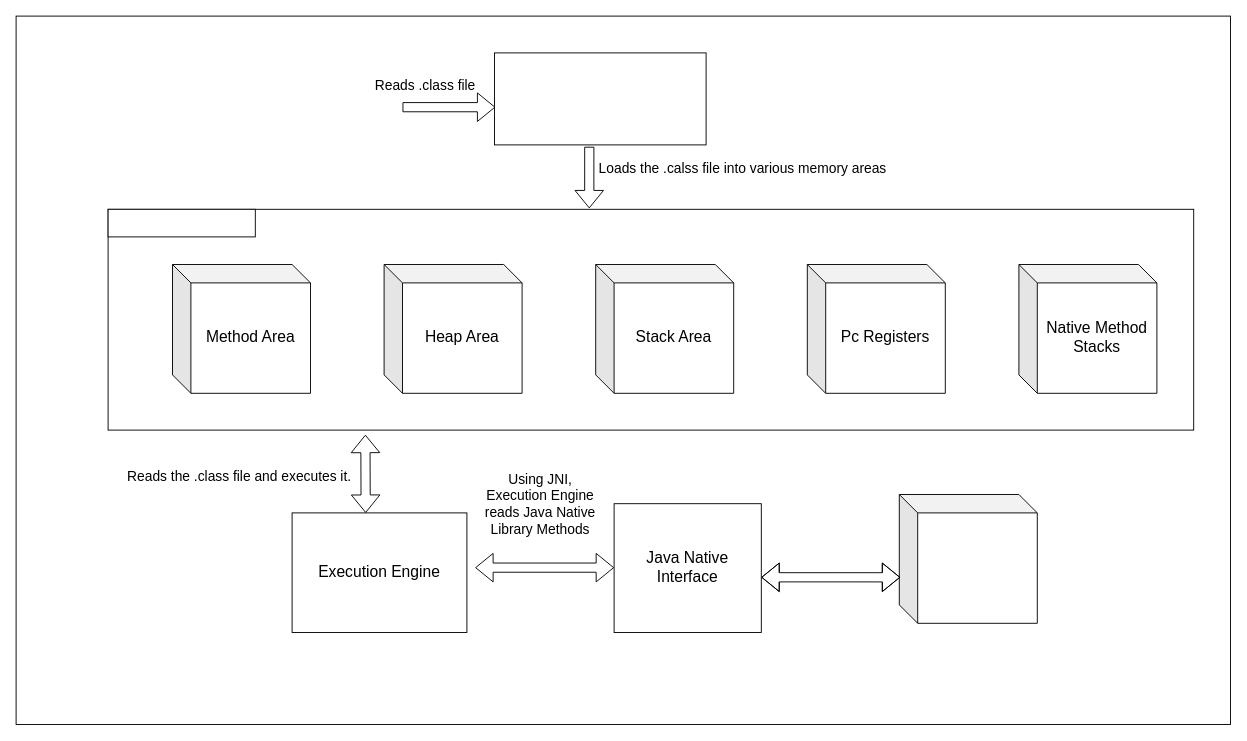
Image size: 1247x741. Some labels were removed from this diagram. The shapes that lost their labels are listed below. From the top down, each one's centre as x and y in pixels, then its label:
the point at 600,98: Class Loader Subsystem
the point at 181,222: Memory Area
the point at 967,558: Native Method Libraries
